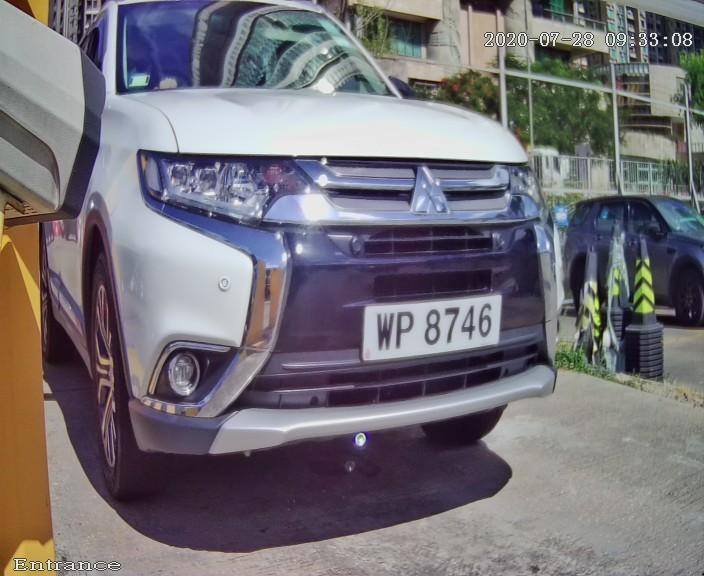privatecar: (19, 3, 635, 553)
